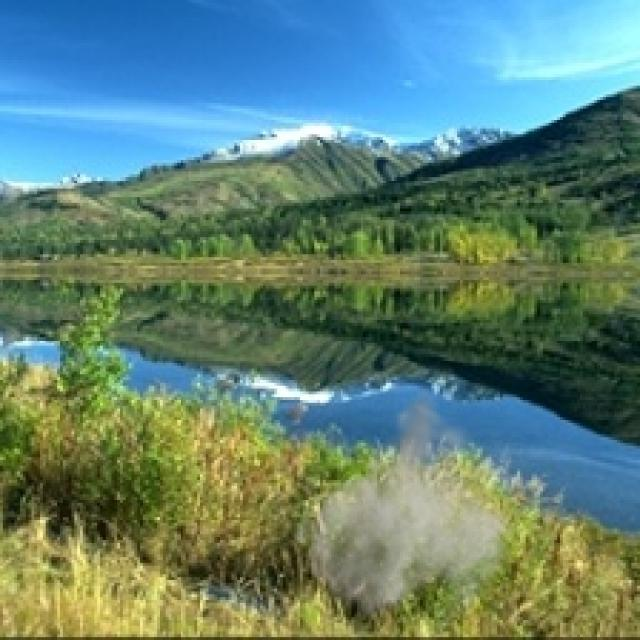Smoke: (288, 382, 526, 638)
